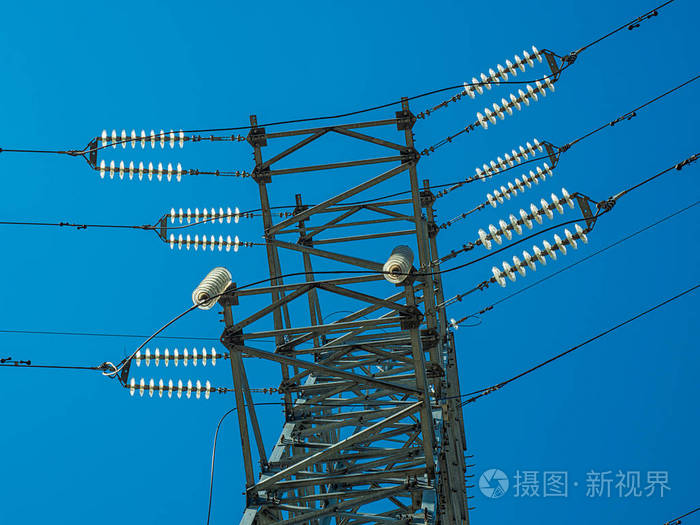insulator: (492, 223, 592, 287), (478, 189, 575, 249), (463, 45, 543, 99), (477, 75, 556, 129), (477, 138, 545, 181), (486, 165, 554, 206), (97, 160, 184, 183), (124, 378, 212, 400), (100, 128, 186, 150), (191, 266, 233, 311), (132, 346, 218, 367), (166, 233, 241, 254), (167, 205, 241, 223), (383, 245, 414, 285)
